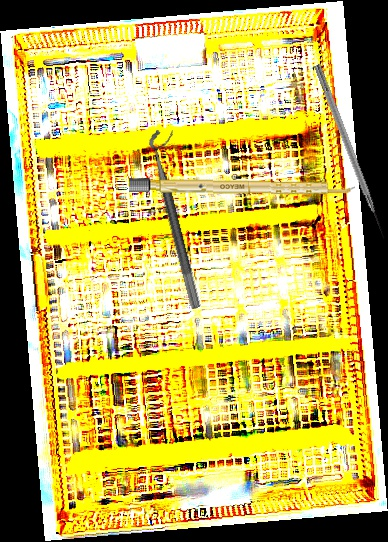Fixation Ring: (146, 126, 216, 310)
Hook Surgical: (312, 63, 388, 241)
Scalpel Handle: (128, 178, 356, 196)
